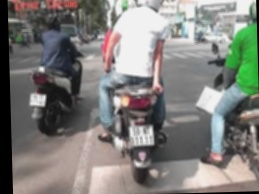Bien-so: (130, 124, 155, 148), (29, 92, 47, 107)
